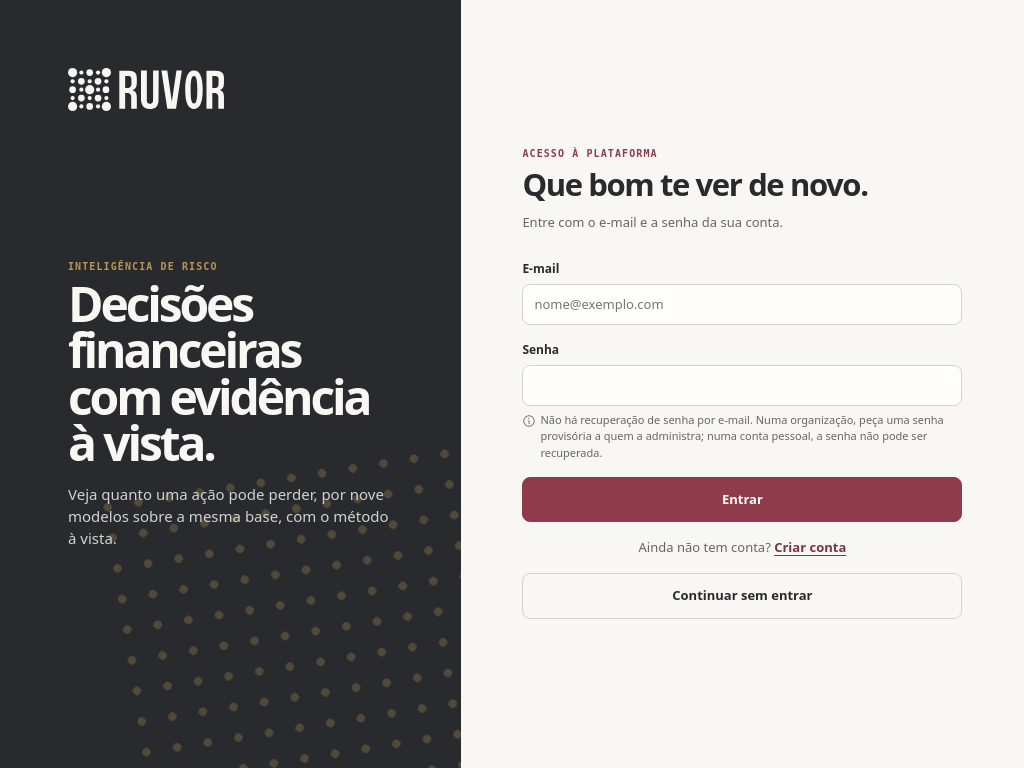
Scenario: o campo vazio (RF-06) › os dois vazios: aria-invalid e aria-describedby nos dois, foco no e-mail, sem pedido
What coordinates should you click on to do the following:
click the button "Entrar"
I would click on:
 (742, 500)
Its box is x1=522 y1=477 x2=962 y2=522.
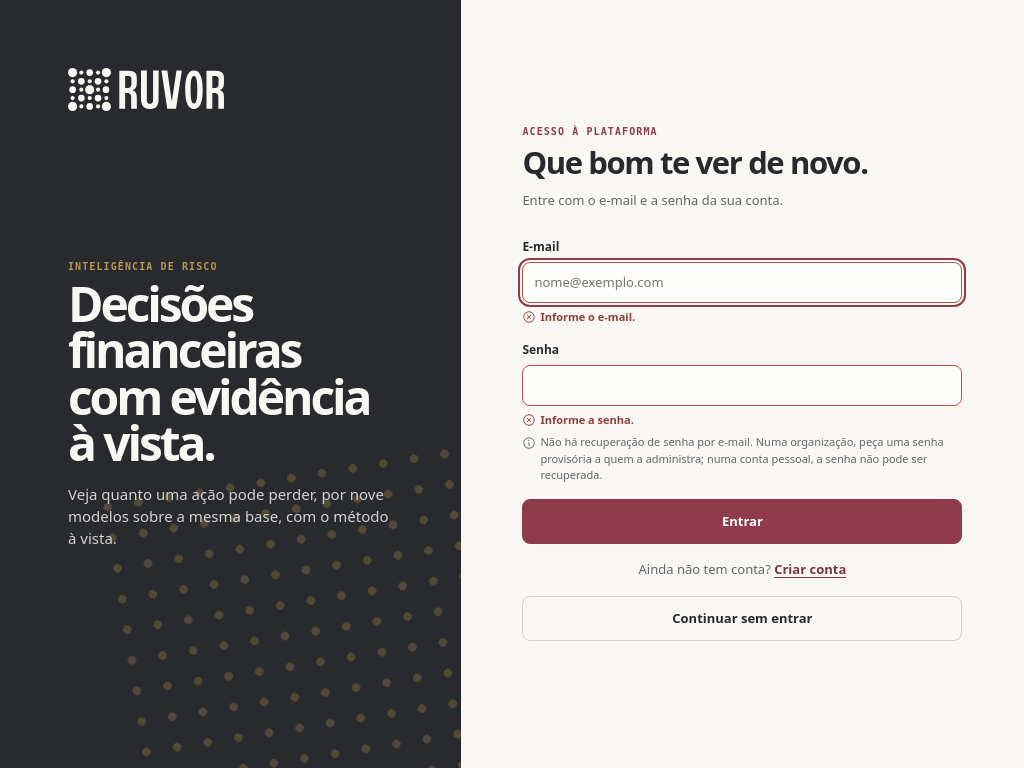
Expected: the text "Não há recuperação de senha por e-mail. Numa organização, peça uma senha provisória a quem a administra; numa conta pessoal, a senha não pode ser recuperada." is shown, x1=540 y1=434 x2=944 y2=482
Result: the element showing "Informe o e-mail." is shown at x1=522 y1=309 x2=635 y2=324
Result: the element showing "Informe a senha." is shown at x1=522 y1=412 x2=634 y2=427
